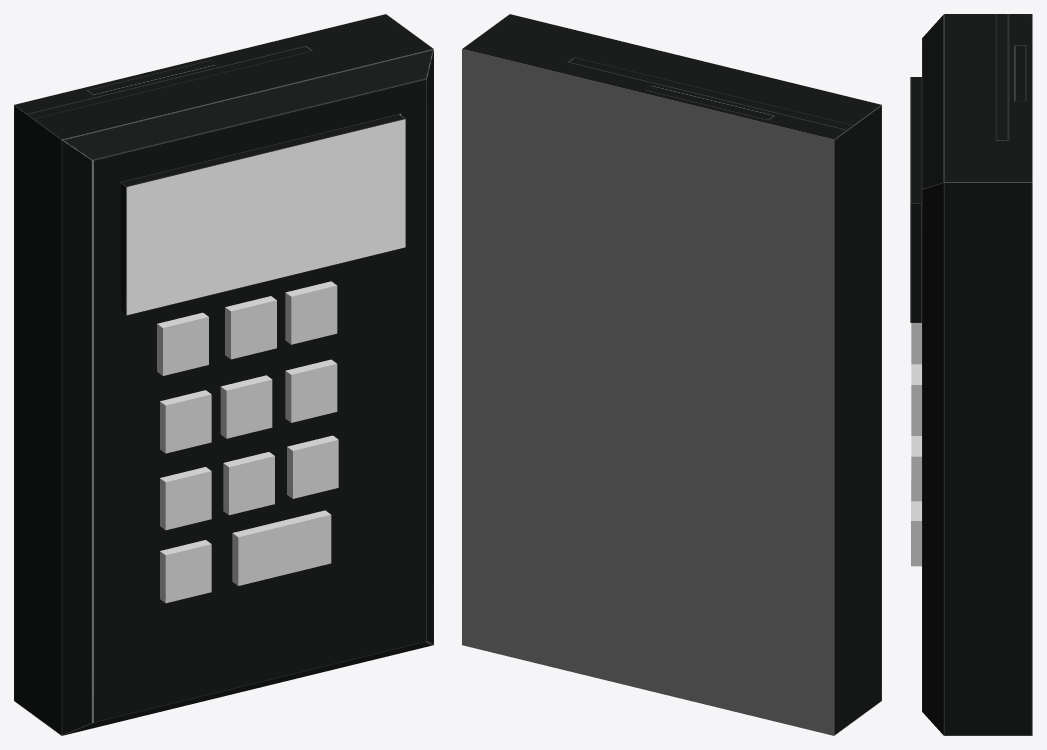
File: Keypad(d1).fbx
The picture shows the model from 3 angles, left to right: view 1: azimuth 30°, elevation 25°; view 2: azimuth 150°, elevation 25°; view 3: azimuth 270°, elevation 25°; orthographic projection. The views are drawn at different scales.
Visible parts, largest first — view 1: pCube4, pCube16, pCube8, pCube9, pCube10, pCube7, pCube11, pCube13, pCube14, pCube15, pCube6, pCube12; view 2: pCube4; view 3: pCube4, pCube16, pCube9, pCube12, pCube8.
Boxes of the visible parts, bbox=[...] form: pCube4: bbox=[14, 14, 433, 735]; pCube16: bbox=[232, 510, 331, 585]; pCube8: bbox=[285, 281, 337, 344]; pCube9: bbox=[285, 359, 337, 422]; pCube10: bbox=[220, 375, 272, 438]; pCube7: bbox=[225, 296, 276, 359]; pCube11: bbox=[160, 390, 211, 453]; pCube13: bbox=[223, 452, 274, 515]; pCube14: bbox=[160, 467, 211, 530]; pCube15: bbox=[160, 540, 211, 603]; pCube6: bbox=[157, 312, 208, 375]; pCube12: bbox=[287, 435, 338, 498]; pCube4: bbox=[462, 14, 881, 735]; pCube4: bbox=[910, 14, 1032, 735]; pCube16: bbox=[911, 479, 921, 566]; pCube9: bbox=[911, 364, 921, 429]; pCube12: bbox=[911, 436, 921, 501]; pCube8: bbox=[911, 323, 921, 356].
Size of the model in its own units: 0.081 by 0.124 by 0.0248.
Materials: 2 (1 with a texture image).
